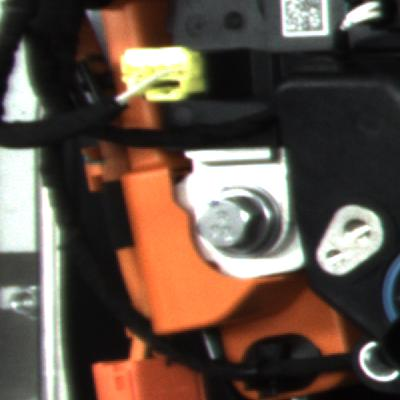nut_b: (186, 173, 284, 265)
